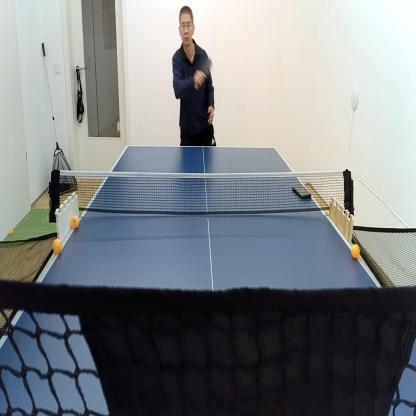Ball: (52, 237, 63, 255), (350, 242, 360, 260), (71, 214, 80, 230), (116, 120, 122, 135), (9, 228, 14, 236)
